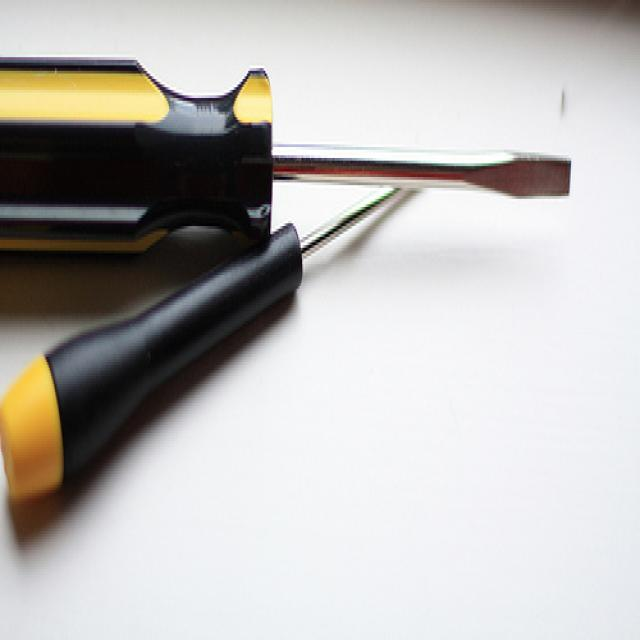screw_driver: (0, 193, 393, 500), (0, 53, 573, 254)
